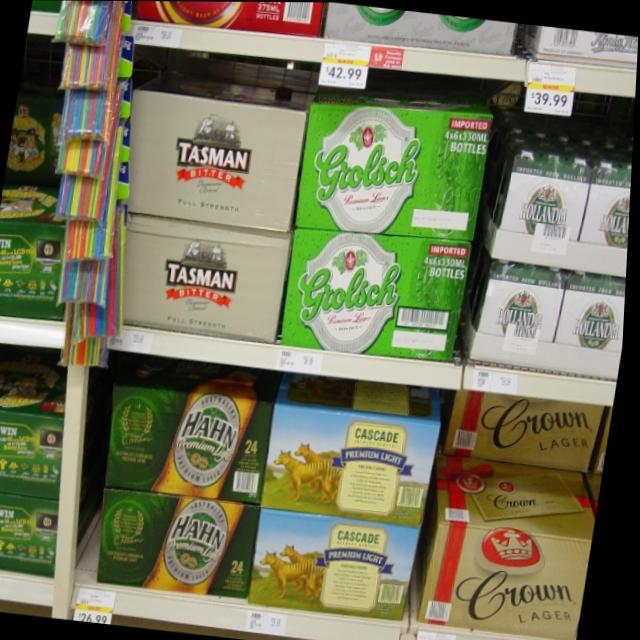q196: (86, 480, 276, 611), (99, 375, 278, 505)
